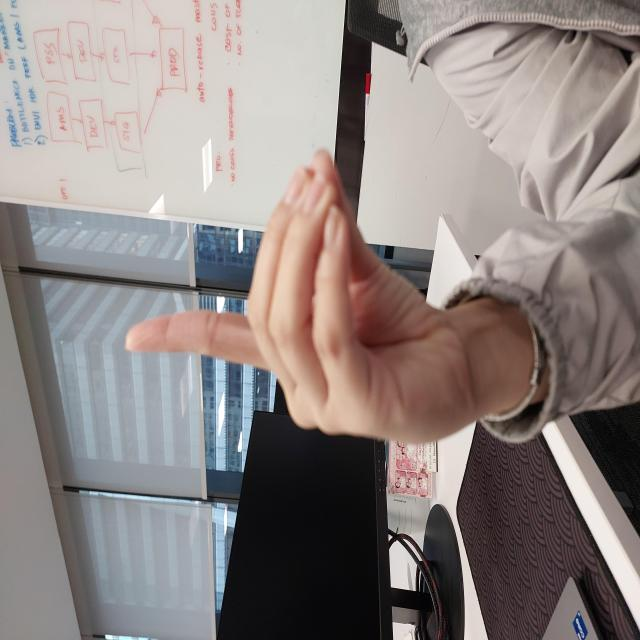D: (195, 126, 492, 475)
